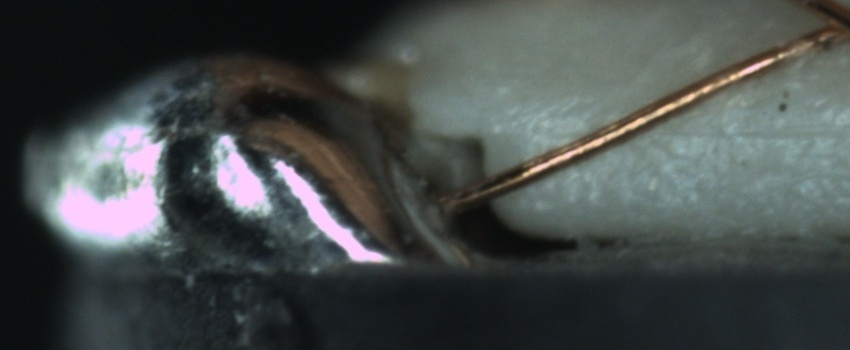CL: (794, 4, 850, 55)
DL: (559, 96, 850, 164)
